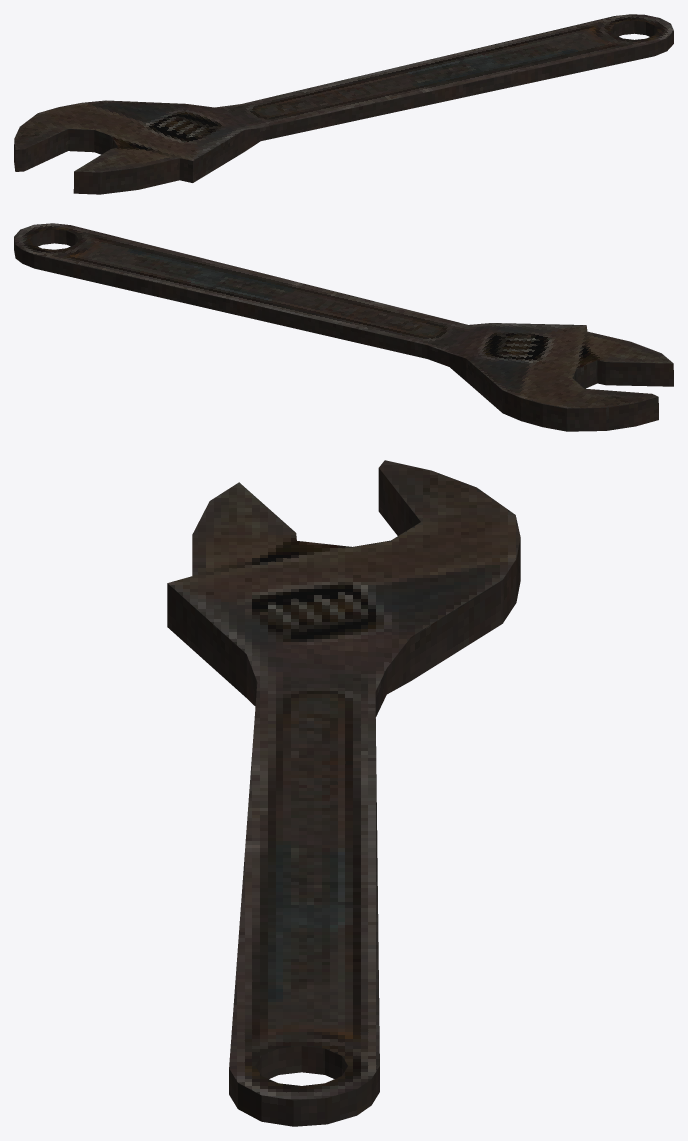
Rendered from wrench_mx_2.glb.
3 renders of one model, top to bottom at view 1: azimuth 30°, elevation 25°; view 2: azimuth 150°, elevation 25°; view 3: azimuth 270°, elevation 25°, orthographic. The views are drawn at different scales.
Parts seen in each view (by area): view 1: wrench_mx_2; view 2: wrench_mx_2; view 3: wrench_mx_2.
Boxes of the visible parts, <box> form: wrench_mx_2: <box>14,14,673,194</box>; wrench_mx_2: <box>14,223,673,431</box>; wrench_mx_2: <box>167,460,520,1126</box>.
Bounding box in the file's own units: 0.5994 × 0.0223 × 0.1449.
Materials: 1 (1 with a texture image).
